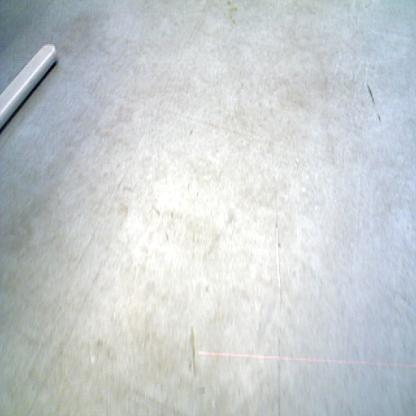liquid: (274, 227, 282, 416), (227, 1, 238, 25)
mark: (205, 210, 234, 257), (365, 80, 382, 122), (187, 324, 198, 376), (96, 337, 111, 358), (152, 206, 161, 217), (169, 210, 175, 221), (188, 127, 194, 137), (165, 231, 170, 242), (274, 221, 280, 230), (277, 240, 282, 249)
